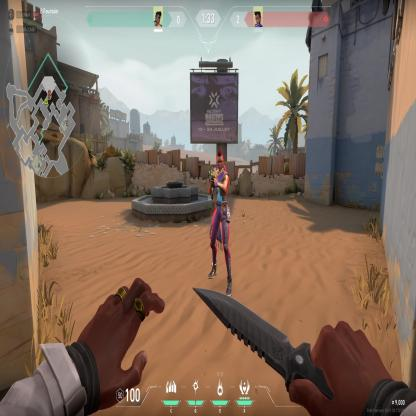enemy: (207, 146, 232, 300)
